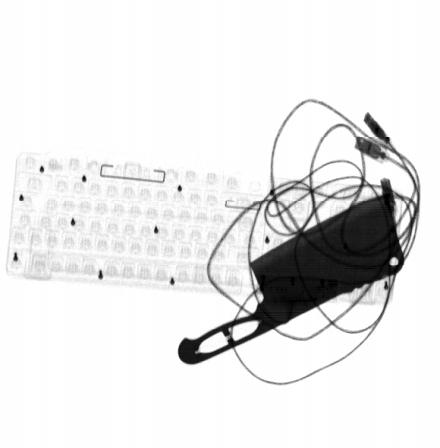Knife: (177, 192, 405, 366)
